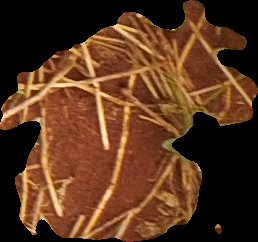soil: (3, 3, 256, 240)
